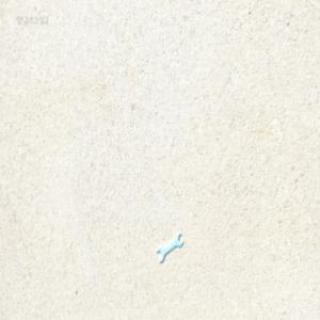Wrenchtrack_idkeyframe: (155, 233, 181, 263)
